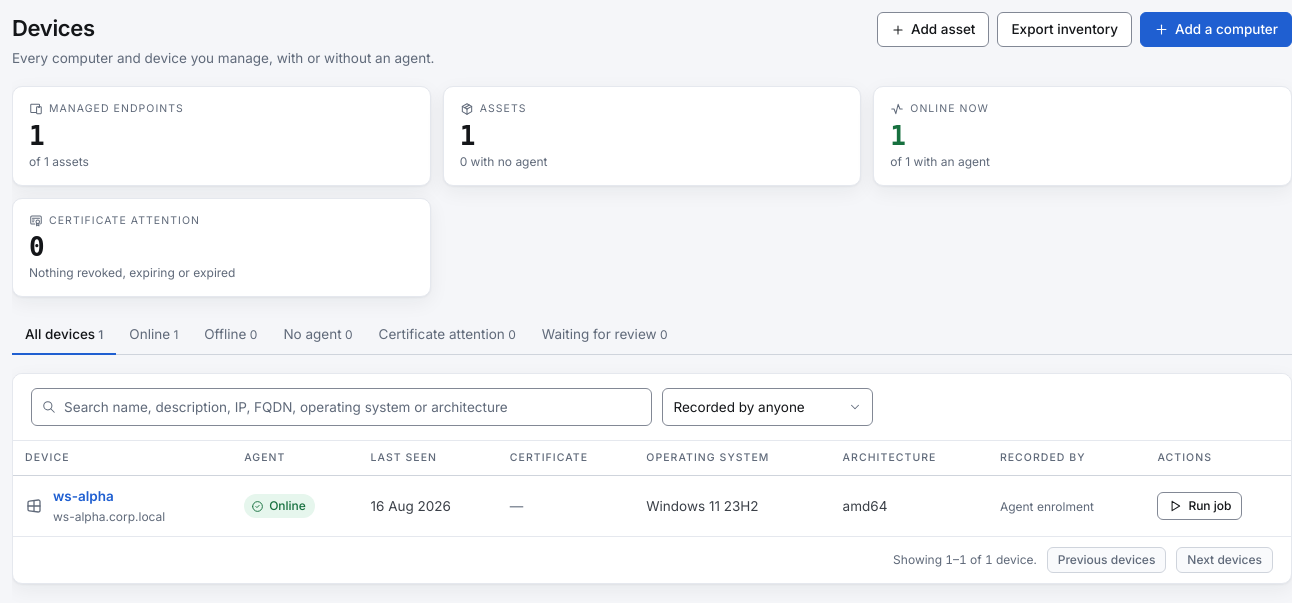
DevicesPage › offers a way out of a search, and only when there is one to take
expect the link "ws-alpha" is shown: met, box x1=53 y1=488 x2=114 y2=504
expect the button "Clear search" is not shown: met
Type "zzzz" into the field named "Search devices" at {"x": 341, "y": 407}, box x1=31 y1=388 x2=652 y2=426
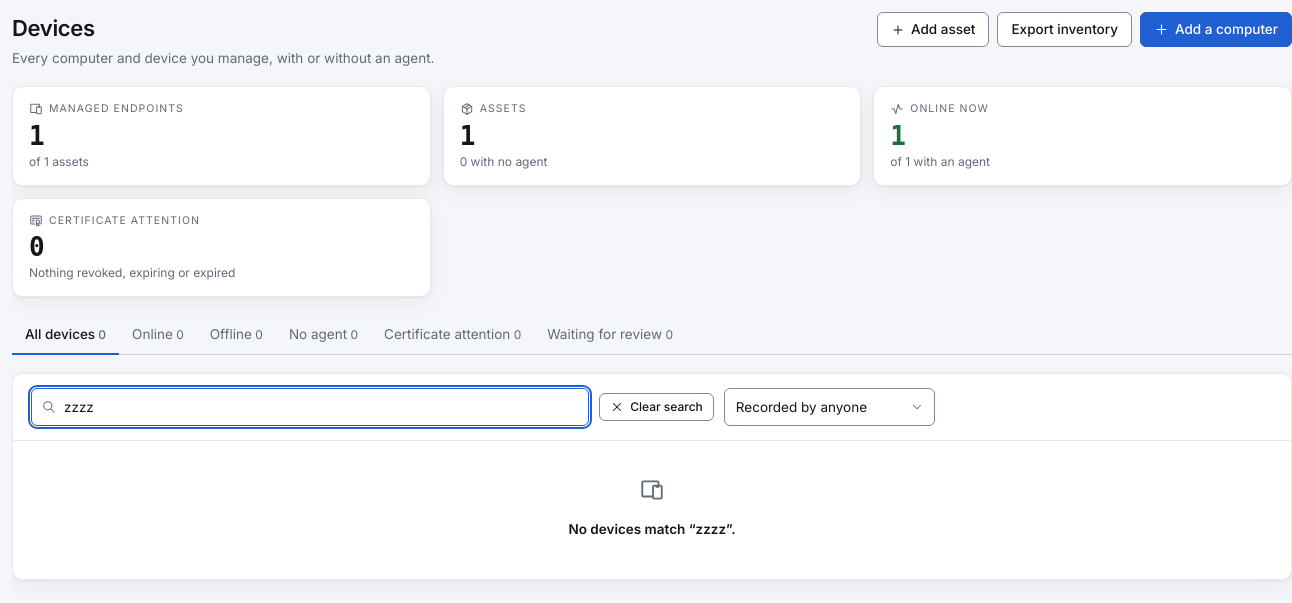
Click the button "Clear search" at {"x": 657, "y": 407}, box x1=599 y1=393 x2=714 y2=421
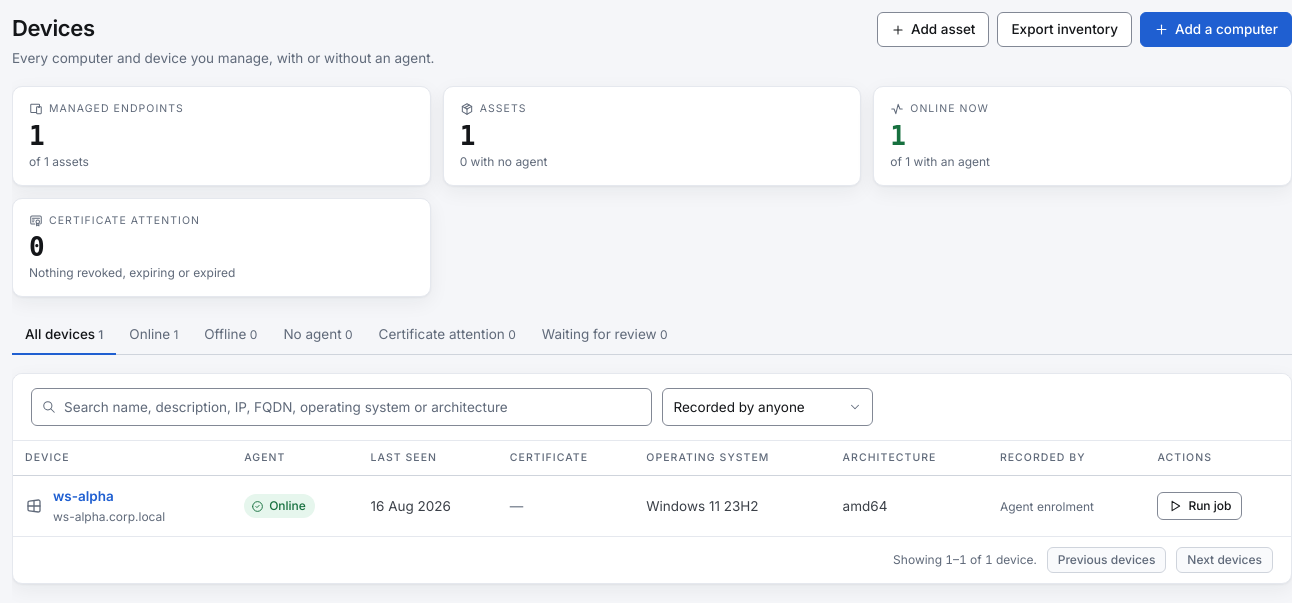
expect the link "ws-alpha" is shown: met, box x1=53 y1=488 x2=114 y2=504
expect the field named "Search devices" is empty: met, box x1=31 y1=388 x2=652 y2=426
